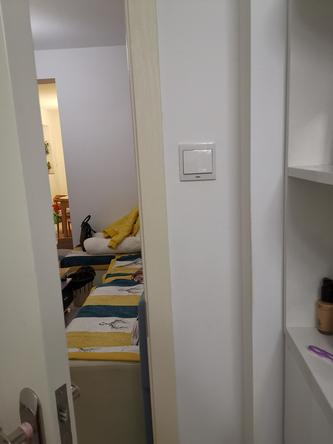switch: (181, 147, 215, 178)
